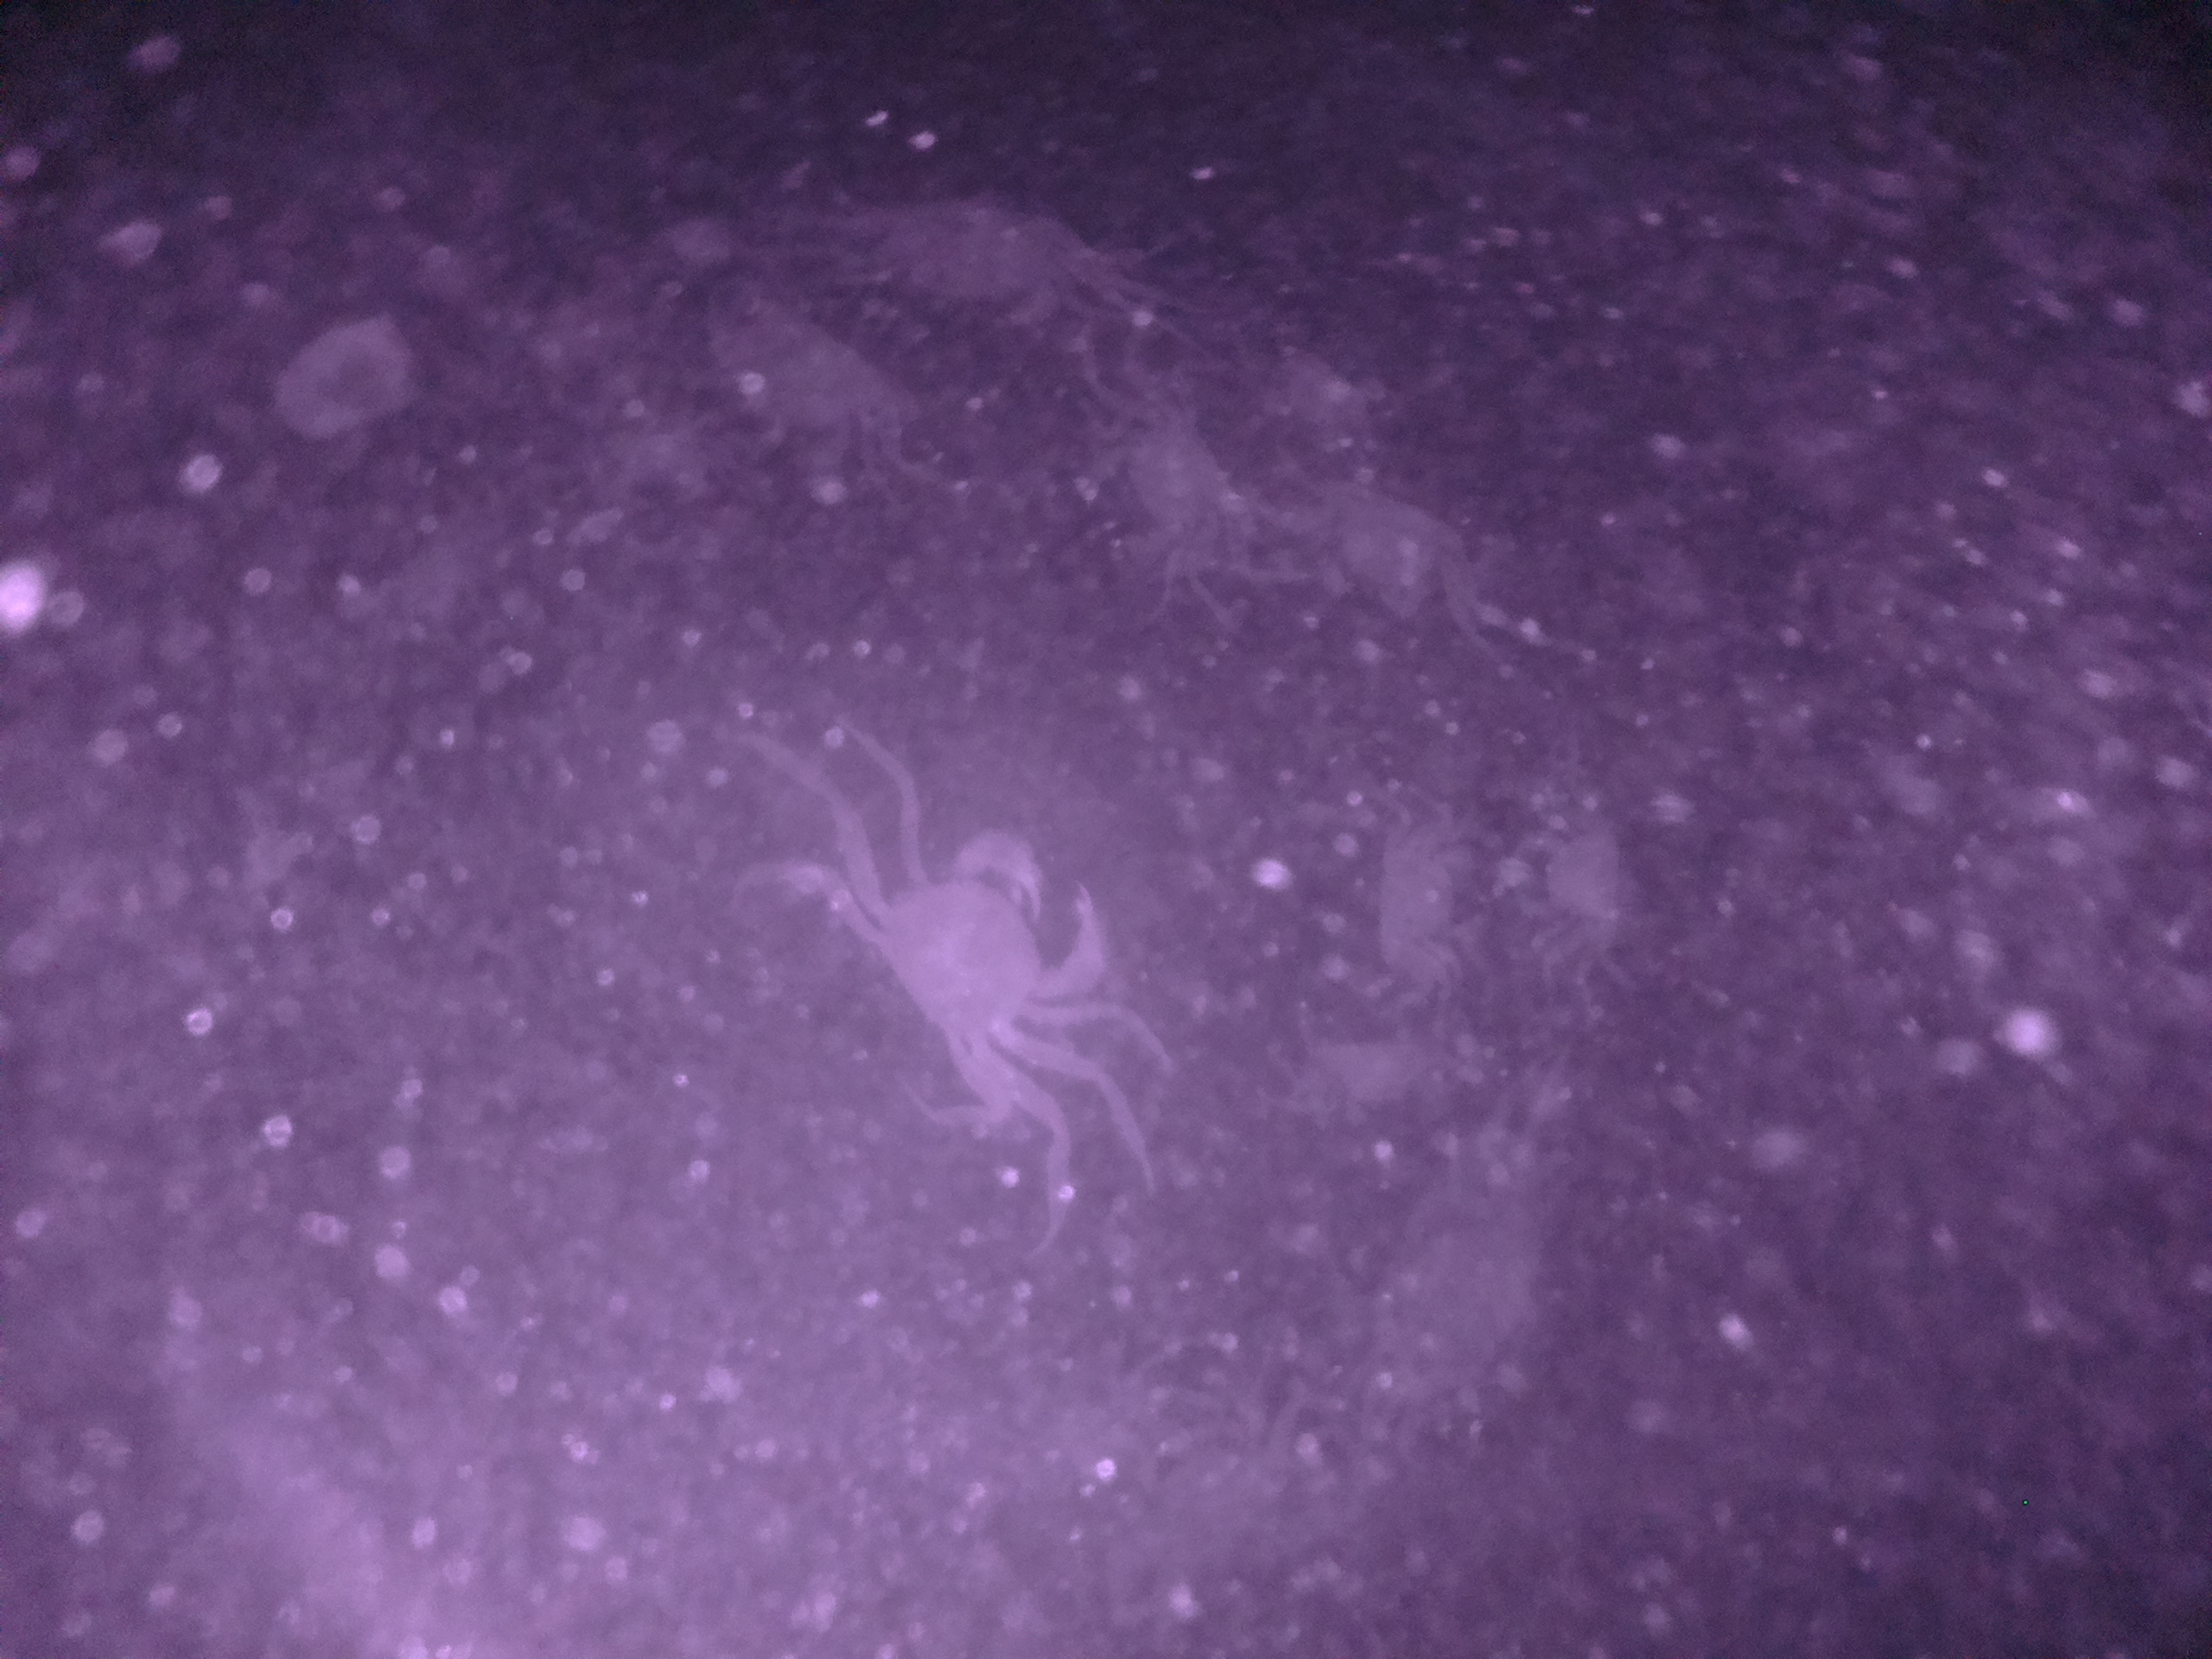Crab: (864, 793, 1123, 1094), (1082, 380, 1233, 582), (1355, 805, 1493, 1004), (1505, 767, 1649, 950)
